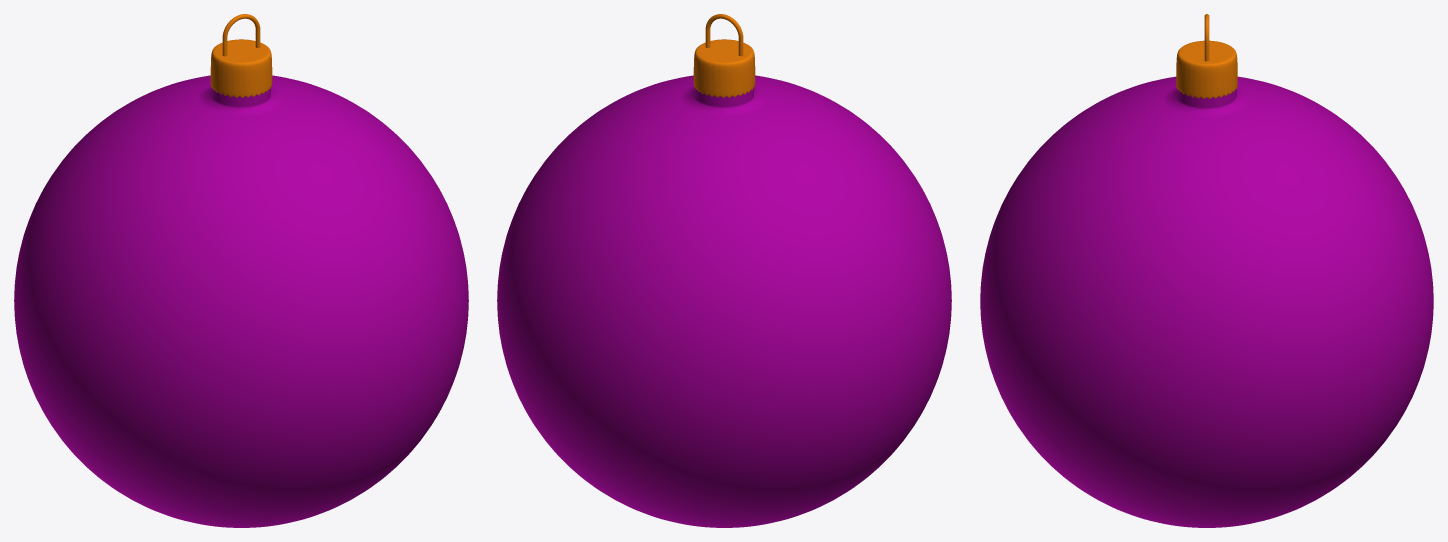
Rendered from ChristmasBall_Purple.fbx.
3 renders of one model, left to right at view 1: azimuth 30°, elevation 25°; view 2: azimuth 150°, elevation 25°; view 3: azimuth 270°, elevation 25°, orthographic.
Visible parts, largest first — view 1: Sphere.006; view 2: Sphere.006; view 3: Sphere.006.
Part boxes in pixels (x1,y1,x2,y2): Sphere.006: [14, 14, 468, 527]; Sphere.006: [497, 14, 951, 527]; Sphere.006: [980, 14, 1433, 527].
Size of the model in its own units: 200 by 239 by 200.
